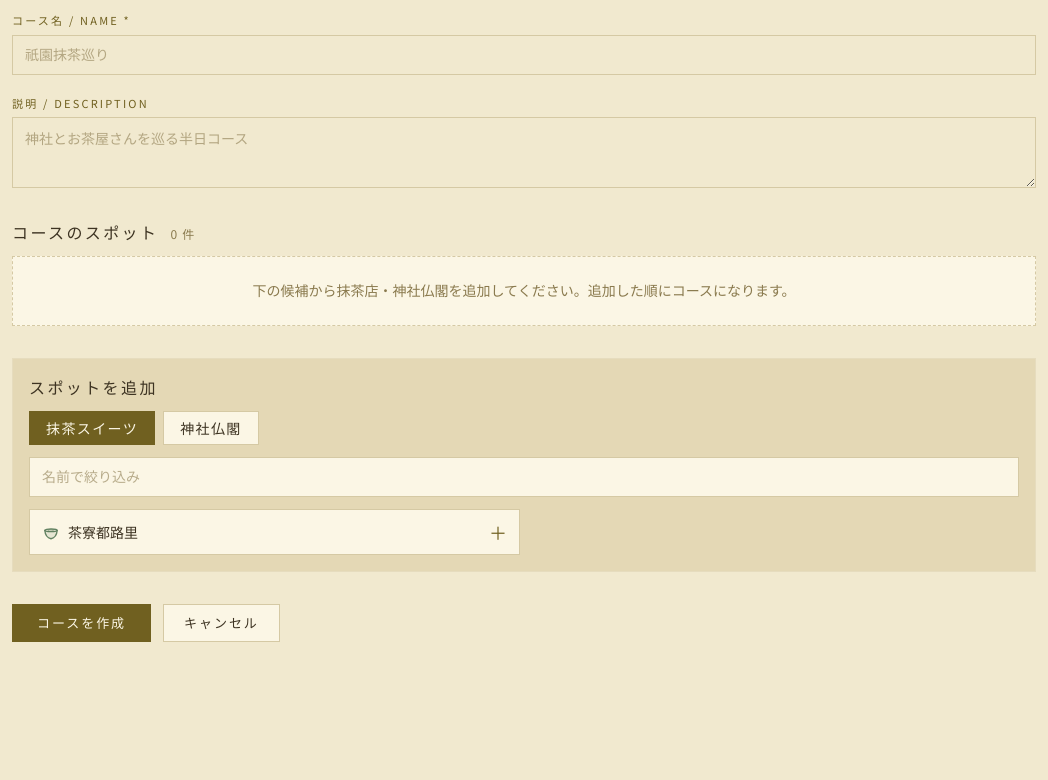
Test: RouteBuilder（作成） › コース名が空だとバリデーションエラーを出す
The width and height of the screenshot is (1048, 780).
Step 1. Click the button "茶寮都路里 ＋" → (103, 532), box [29, 509, 520, 555]
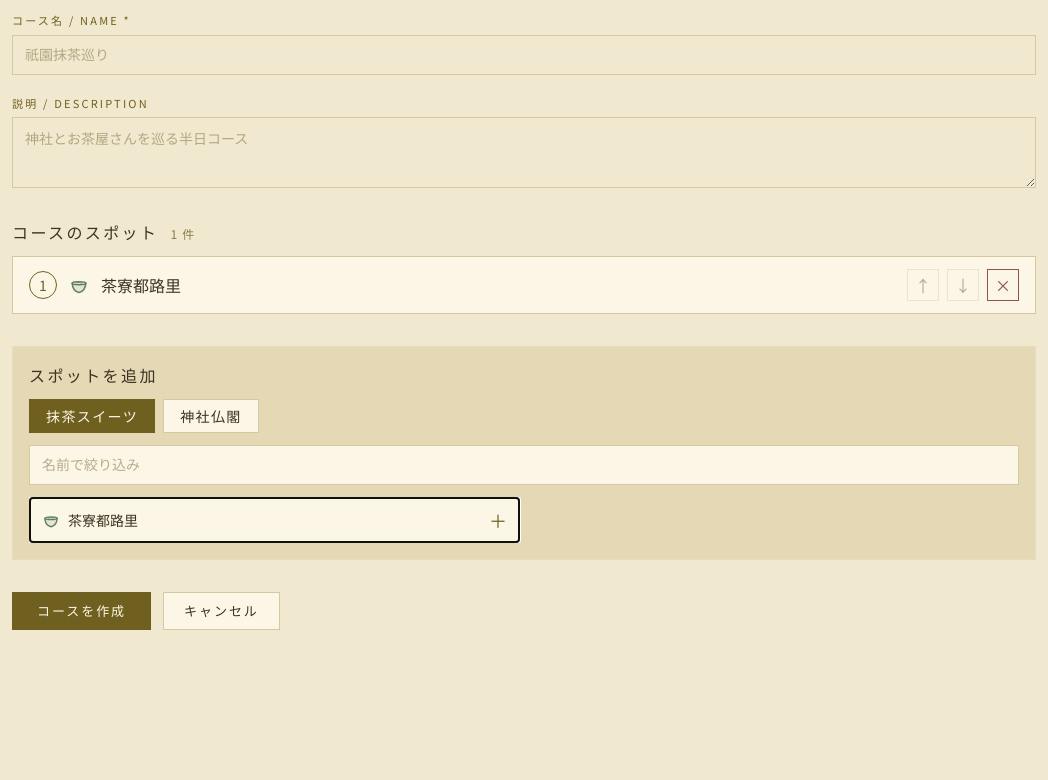
Step 2. Click the button "コースを作成" → (82, 611), box [12, 592, 151, 630]
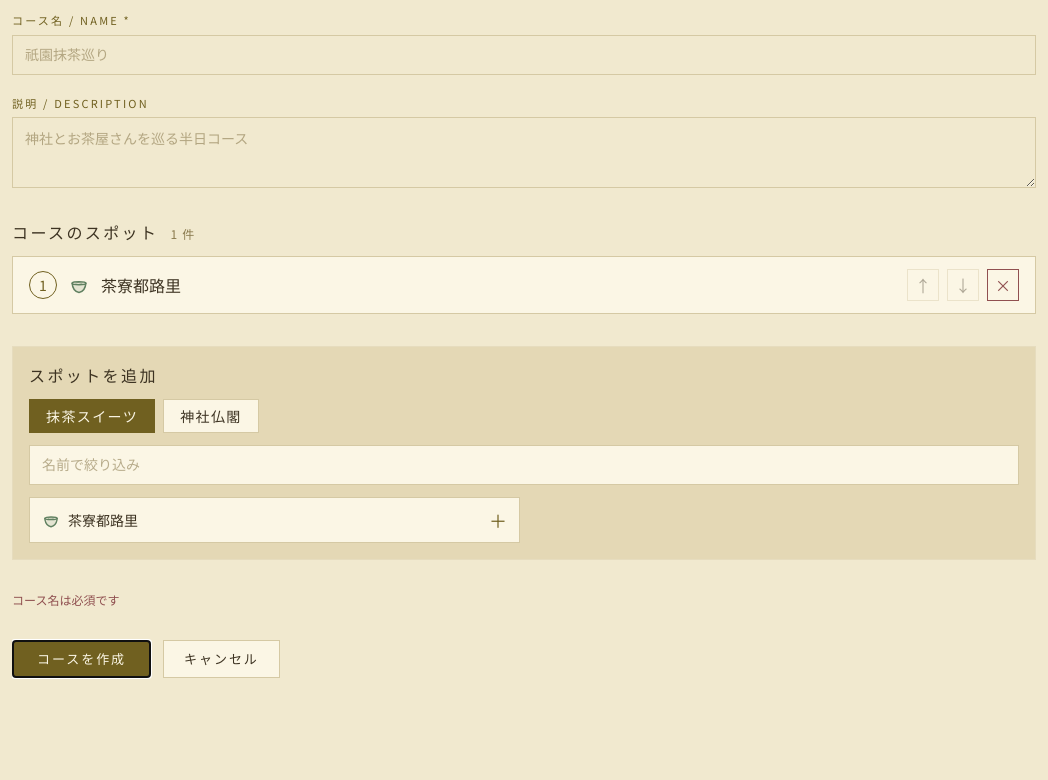
Result: the text "コース名は必須です" is shown at [12, 591, 119, 608]
